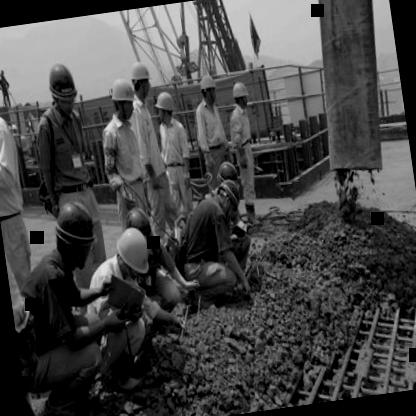helmet: (46, 192, 102, 272), (109, 218, 155, 288), (42, 58, 80, 118), (108, 74, 138, 121), (126, 55, 155, 101), (122, 204, 152, 244), (212, 155, 243, 192), (216, 174, 244, 212), (226, 76, 253, 113), (151, 87, 176, 126), (195, 68, 219, 108)
